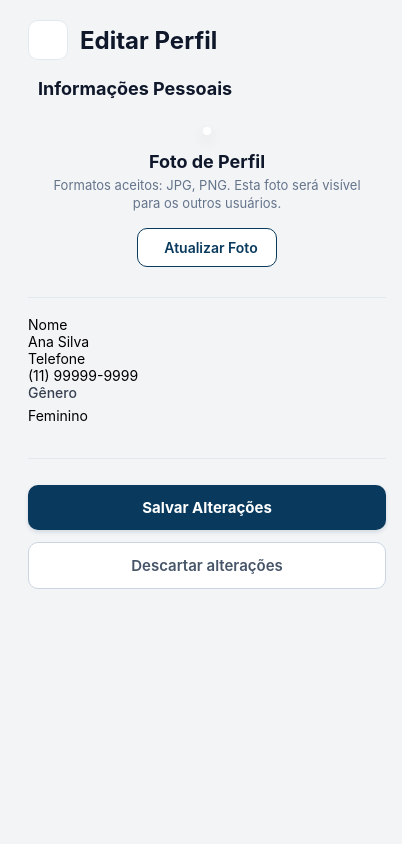
Test: EditUserScreen › mostra erro quando a atualização falha
The width and height of the screenshot is (402, 844).
Check: the field showing "Ana Silva" below "Nome" is shown, box [28,333,386,350]
Click the text "Salvar Alterações" at (207, 508), box [142,498,272,517]
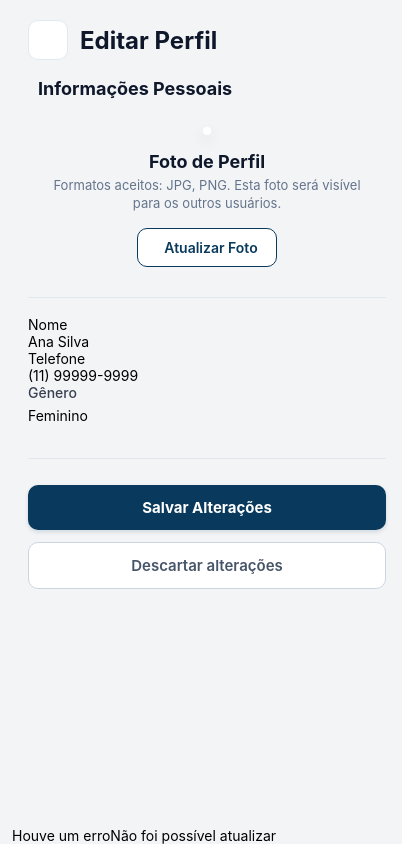
Check: the text "Não foi possível atualizar" is shown, box [110,827,276,843]
